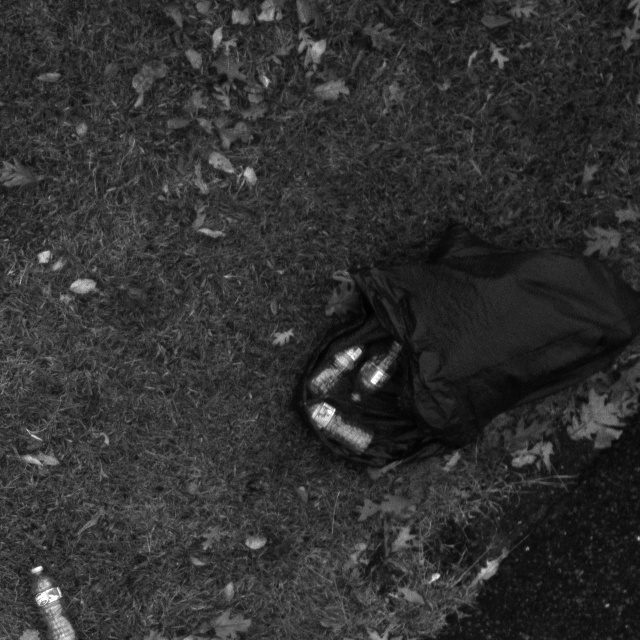bottle: (300, 399, 376, 457), (26, 563, 81, 639), (304, 341, 367, 396), (356, 337, 407, 391)
